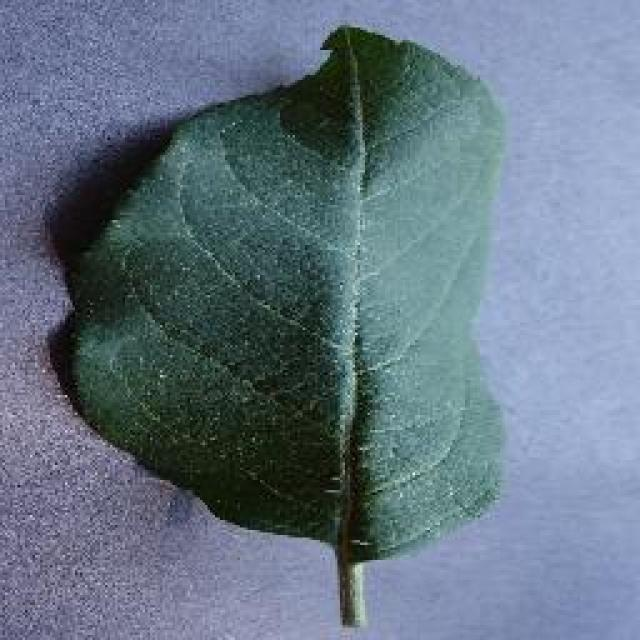apple healthy: (52, 20, 510, 622)
